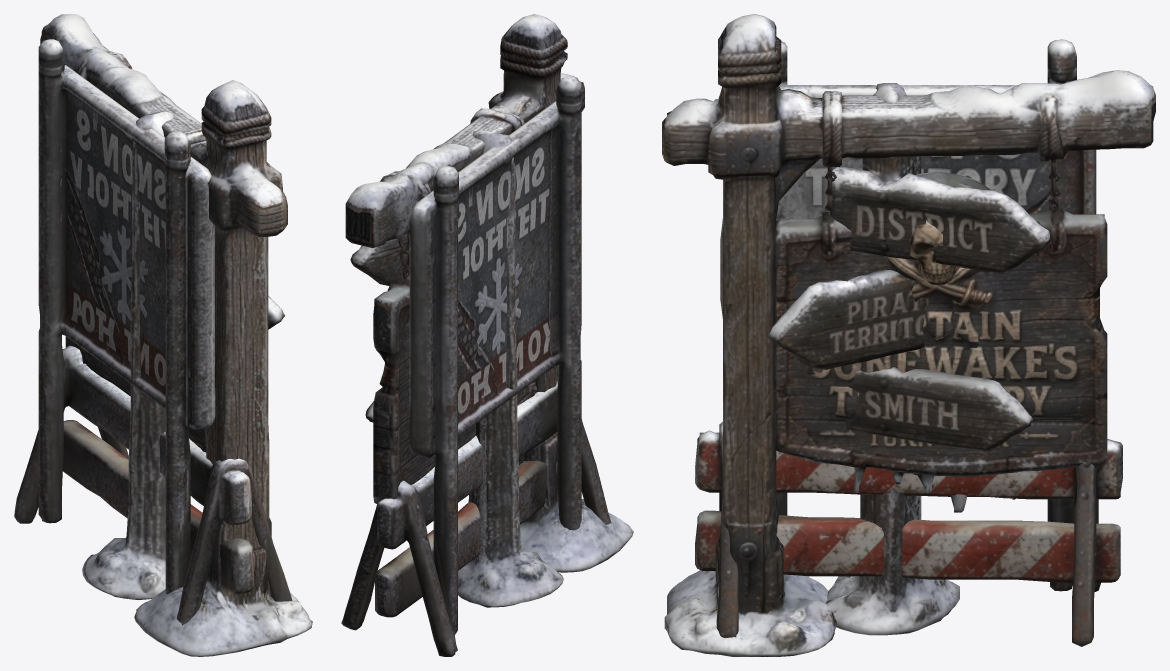
Rendered from signs.glb.
3 renders of one model, left to right at view 1: azimuth 30°, elevation 25°; view 2: azimuth 150°, elevation 25°; view 3: azimuth 270°, elevation 25°, orthographic. The views are drawn at different scales.
Visible parts, largest first — view 1: sign-snow, sign-pirate, sign-post; view 2: sign-snow, sign-pirate, sign-post; view 3: sign-pirate, sign-snow, sign-post.
Boxes of the visible parts, bbox=[...] form: sign-snow: bbox=[14, 39, 292, 625]; sign-pirate: bbox=[40, 14, 312, 656]; sign-post: bbox=[82, 111, 284, 599]; sign-snow: bbox=[341, 76, 611, 656]; sign-pirate: bbox=[345, 14, 633, 572]; sign-post: bbox=[350, 129, 563, 607]; sign-pirate: bbox=[662, 14, 1155, 656]; sign-snow: bbox=[695, 39, 1122, 646]; sign-post: bbox=[768, 83, 1049, 635].
Bounding box in the file's own units: 0.1489 × 0.5252 × 0.3876.
Materials: 1 (1 with a texture image).
